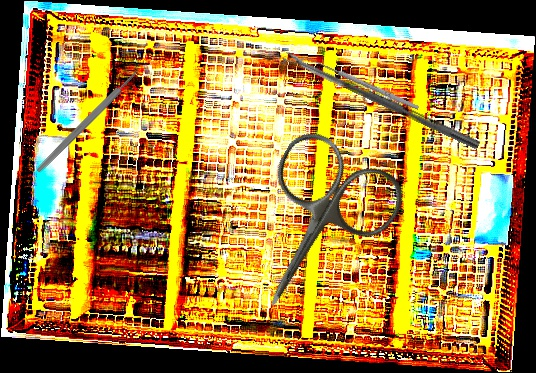Hook Surgical: (299, 52, 420, 116)
Iris Scissors: (215, 122, 413, 338)
Scalpel Handle: (34, 69, 140, 175)
Surgical Spoon: (282, 50, 482, 150)
